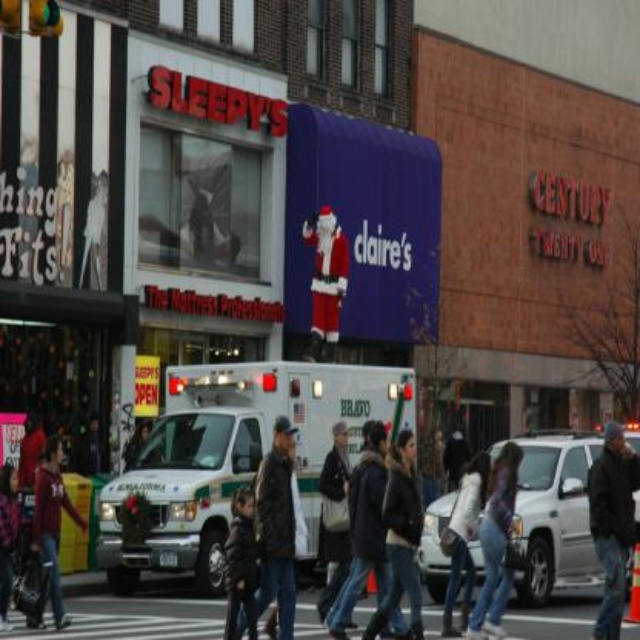Van: (95, 361, 416, 595)
